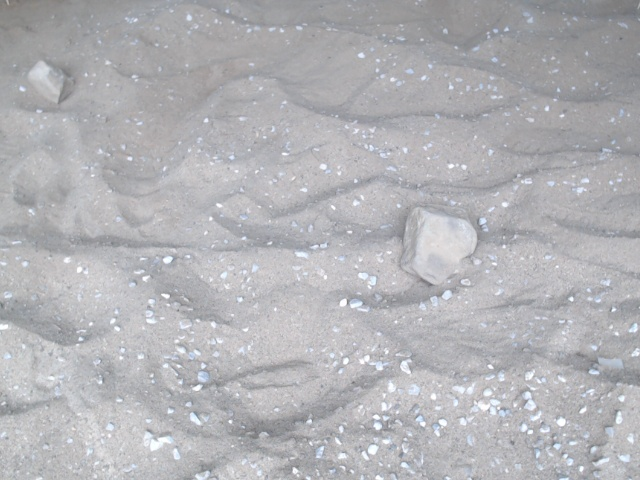rock: (394, 197, 482, 291), (23, 54, 79, 108)
